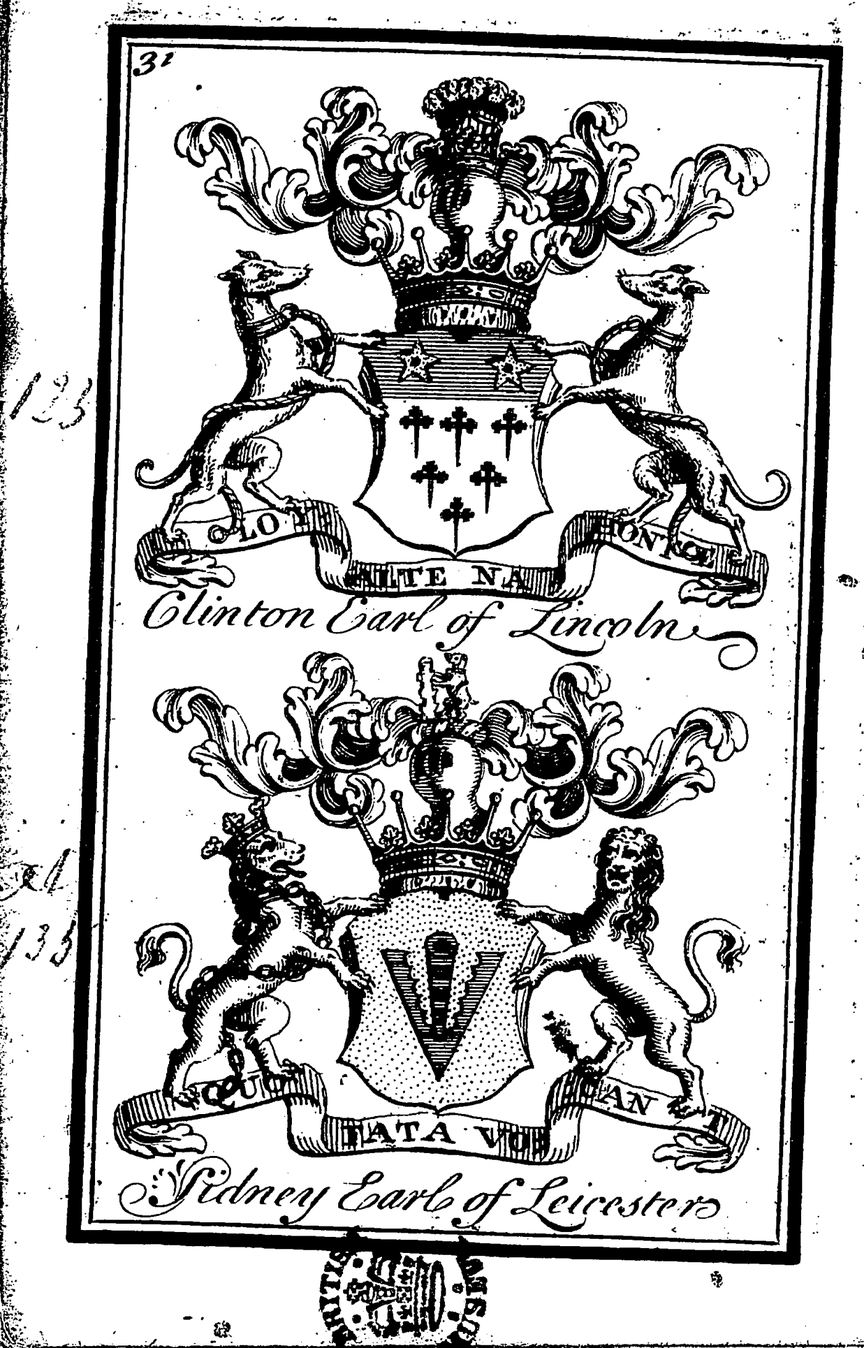coat_of_arms: (145, 47, 778, 664), (141, 658, 755, 1230)
